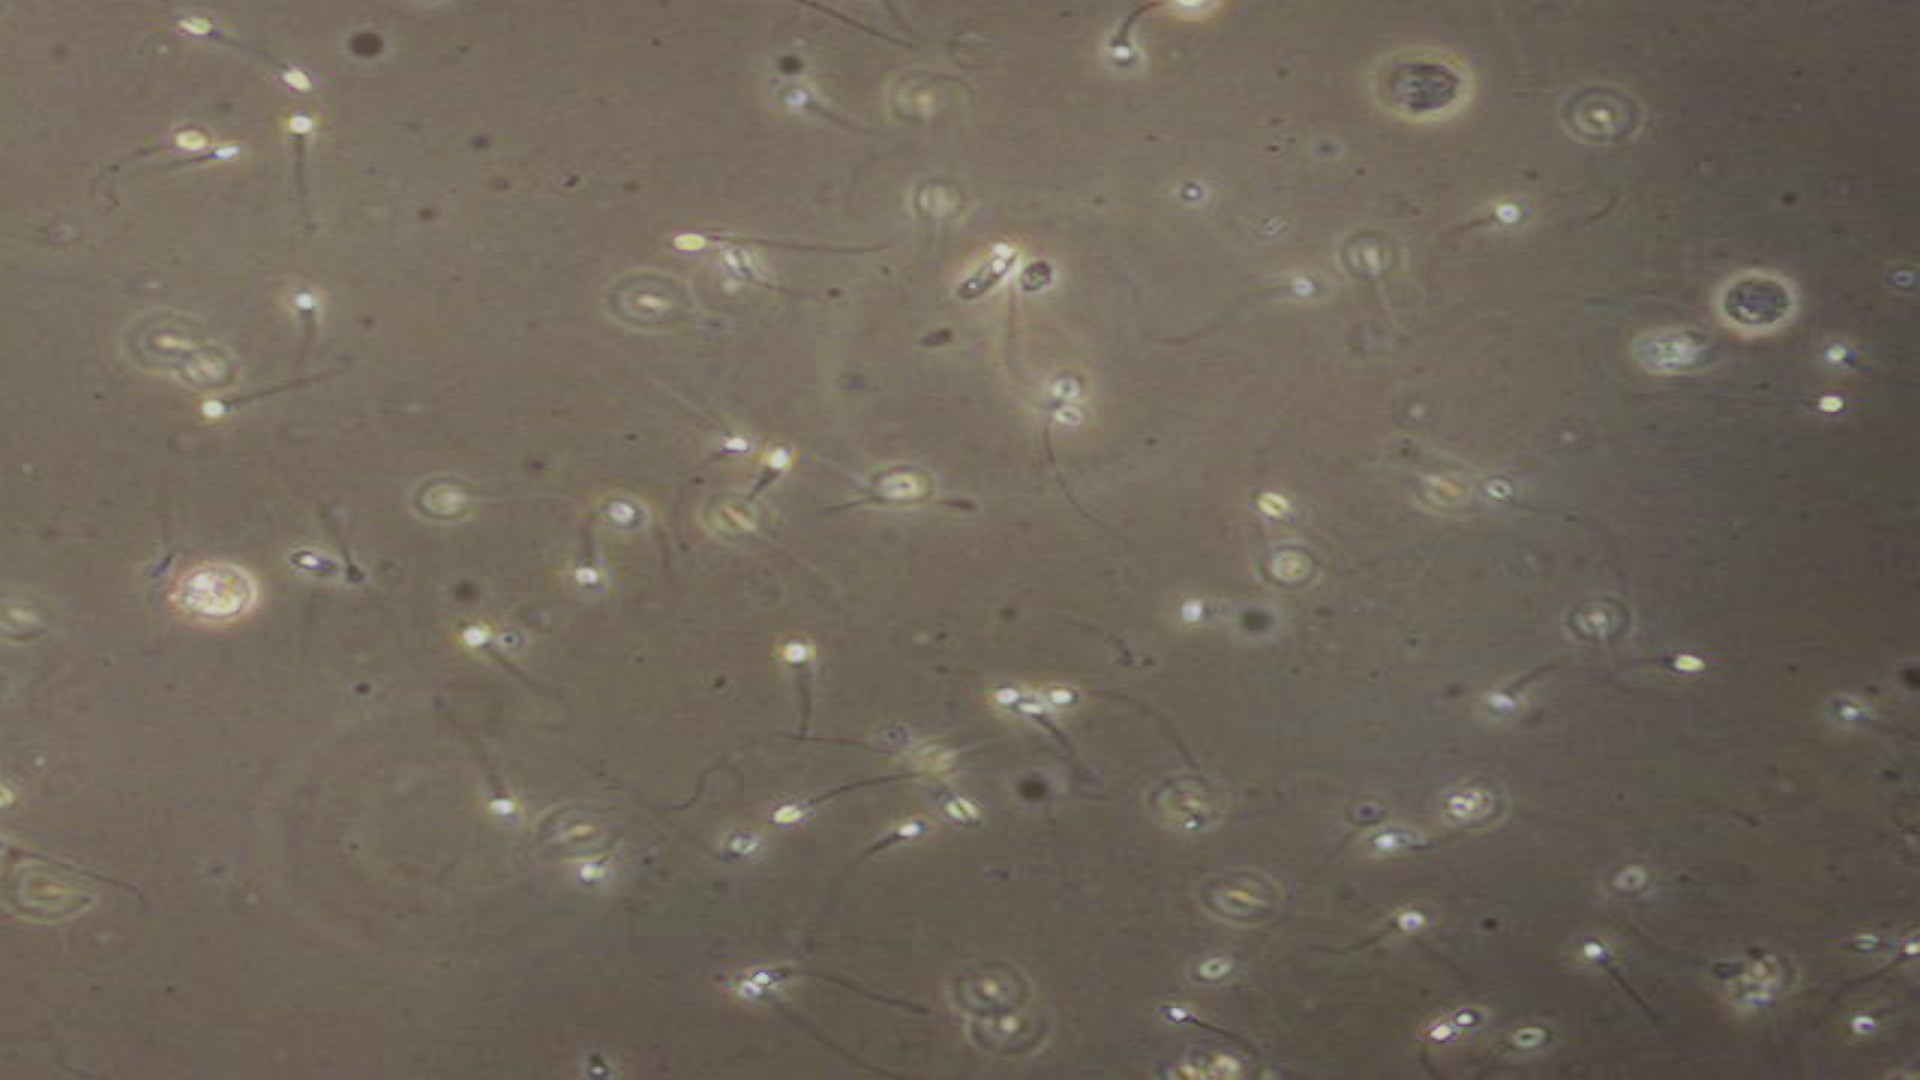sperm: (289, 103, 393, 243), (749, 957, 953, 1017), (431, 694, 518, 823), (1160, 993, 1304, 1071), (450, 621, 579, 705), (1640, 378, 1869, 423), (779, 616, 858, 741), (1572, 934, 1668, 1034), (760, 777, 897, 845), (752, 76, 903, 138), (282, 284, 368, 392), (1021, 704, 1142, 778), (200, 375, 338, 436), (1472, 657, 1584, 731), (1153, 276, 1313, 327), (720, 981, 843, 1048), (1056, 15, 1164, 88), (824, 816, 938, 882), (1317, 905, 1437, 967), (1418, 957, 1520, 1029), (1171, 582, 1279, 647), (145, 138, 265, 196), (640, 211, 793, 255), (1578, 646, 1721, 692), (1820, 688, 1902, 767), (113, 117, 210, 182), (164, 16, 266, 75), (715, 443, 796, 517), (280, 535, 389, 588), (1432, 199, 1531, 256), (556, 517, 628, 595), (233, 24, 305, 98), (1821, 338, 1905, 398), (694, 406, 752, 479), (1054, 680, 1150, 721)
